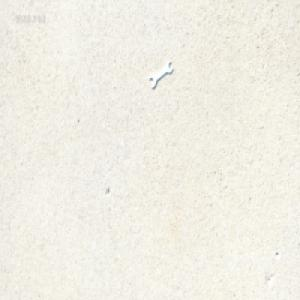Wrench: (149, 58, 172, 88)
